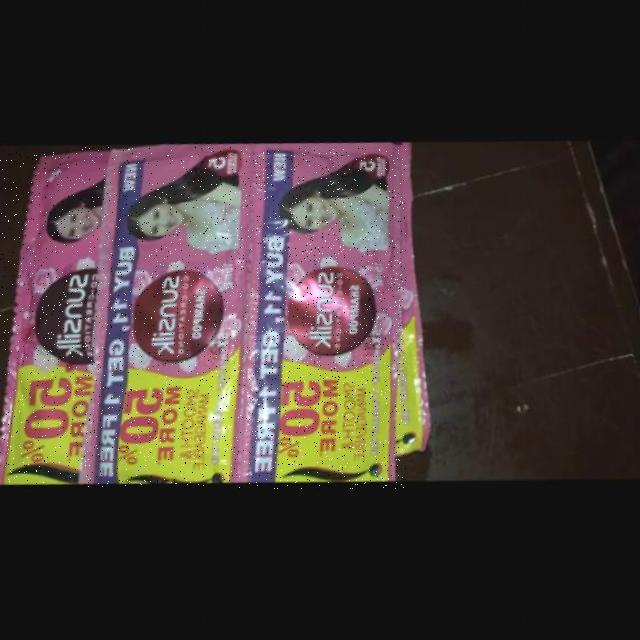wrapper: (77, 147, 255, 487), (232, 148, 406, 489), (0, 153, 108, 485)
